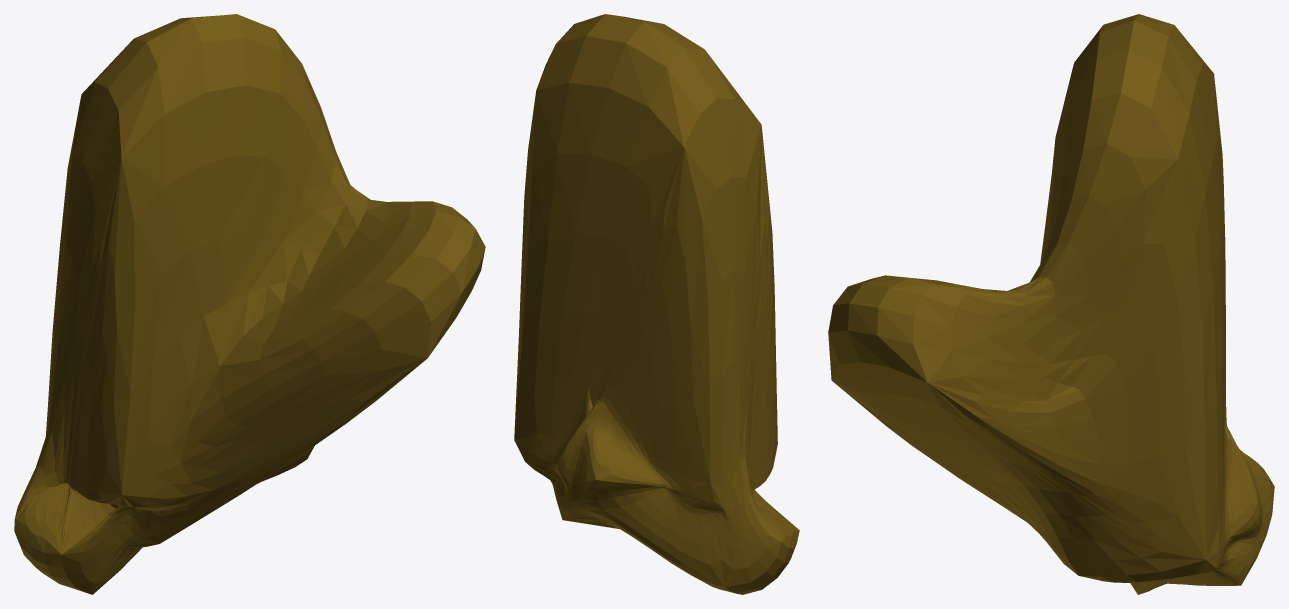
3 views of the same model, side by side, from view 1: azimuth 30°, elevation 25°; view 2: azimuth 150°, elevation 25°; view 3: azimuth 270°, elevation 25° (orthographic). The views are drawn at different scales.
Visible parts, largest first — view 1: 115_Cube.478; view 2: 115_Cube.478; view 3: 115_Cube.478.
Boxes of the visible parts, bbox=[...] form: 115_Cube.478: bbox=[14, 14, 485, 594]; 115_Cube.478: bbox=[514, 14, 799, 594]; 115_Cube.478: bbox=[828, 14, 1274, 594].
Bounding box in the file's own units: 9.64 × 14.26 × 9.18.
